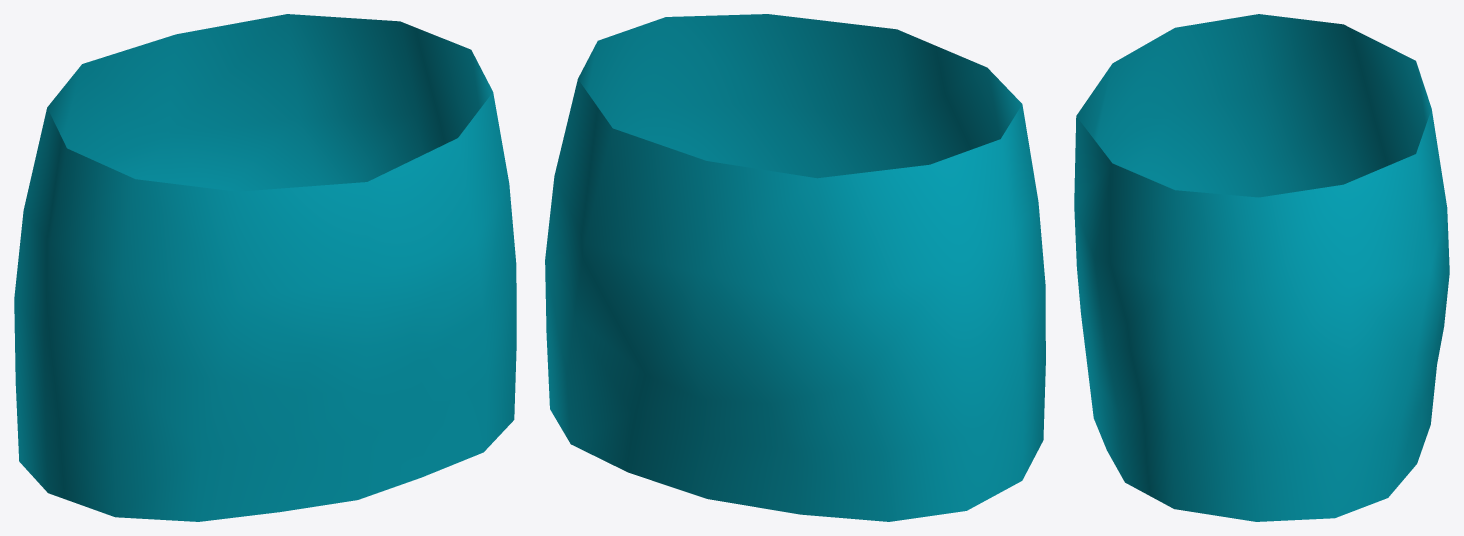
File: Pants_Light_Blue_006.glb
3 views of the same model, side by side, from view 1: azimuth 30°, elevation 25°; view 2: azimuth 150°, elevation 25°; view 3: azimuth 270°, elevation 25° (orthographic). The views are drawn at different scales.
Parts seen in each view (by area): view 1: Pants_Light_Blue_006; view 2: Pants_Light_Blue_006; view 3: Pants_Light_Blue_006.
Boxes of the visible parts, <box> form: Pants_Light_Blue_006: <box>14,14,516,521</box>; Pants_Light_Blue_006: <box>545,14,1045,521</box>; Pants_Light_Blue_006: <box>1074,14,1449,521</box>.
Bounding box in the file's own units: 0.4681 × 0.3437 × 0.3645.
Materials: 1 (1 with a texture image).
